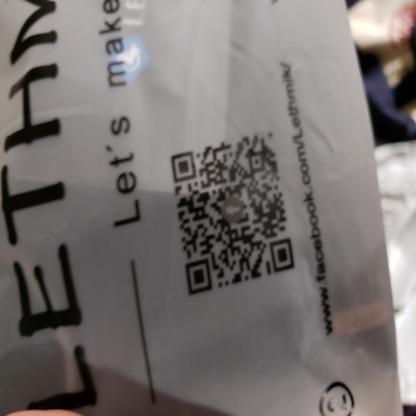qr: (167, 131, 298, 295)
